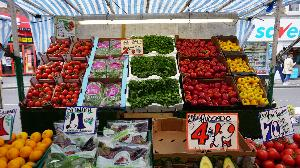bell_pepper: (181, 78, 239, 104), (176, 34, 222, 58), (180, 57, 230, 78), (238, 76, 268, 106), (226, 54, 252, 74), (220, 36, 244, 52)
orange: (0, 121, 54, 168)
tomato: (246, 130, 300, 168), (24, 77, 54, 107), (56, 83, 82, 108), (39, 37, 71, 57), (34, 58, 64, 78), (63, 59, 90, 81), (69, 40, 93, 60)
